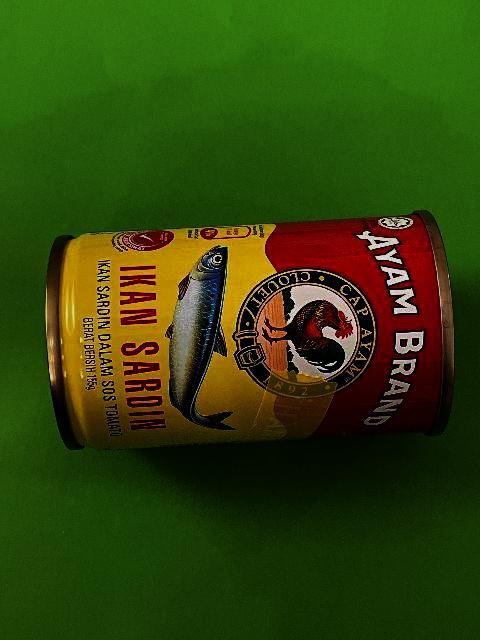foodcan: (43, 208, 458, 454)
